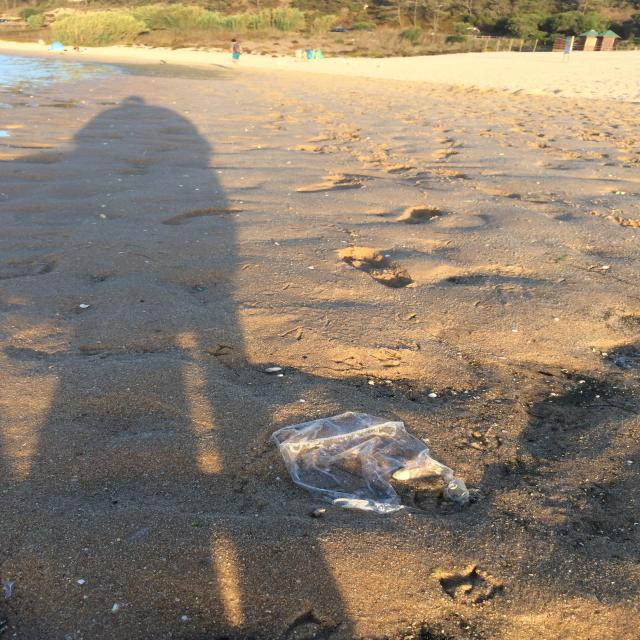litter: (273, 412, 460, 514)
